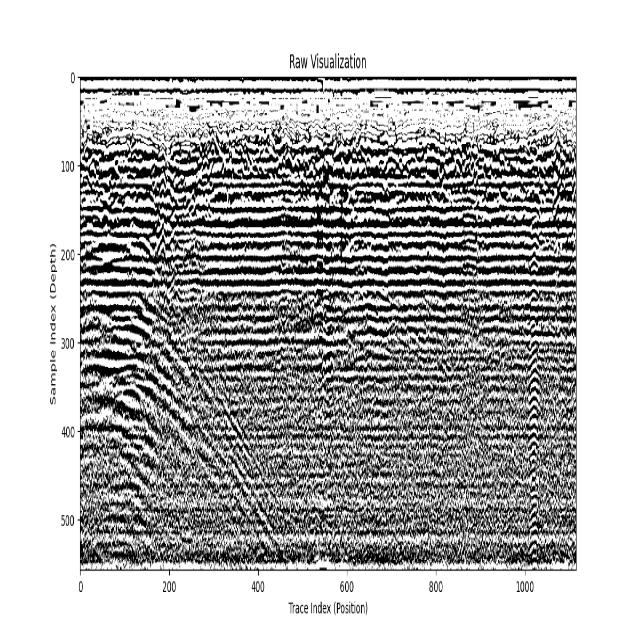anomaly: (82, 172, 295, 567)
